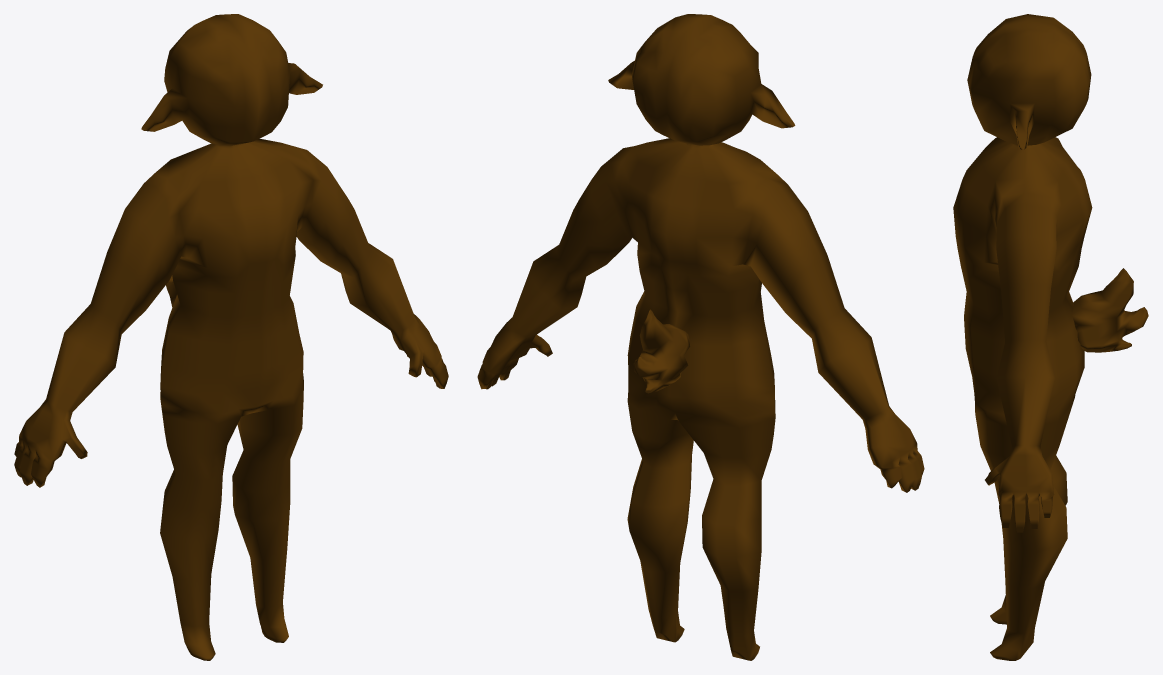
Rendered from CalmaajNPC.fbx.
3 views of the same model, side by side, from view 1: azimuth 30°, elevation 25°; view 2: azimuth 150°, elevation 25°; view 3: azimuth 270°, elevation 25° (orthographic). The views are drawn at different scales.
Parts seen in each view (by area): view 1: calmaaj_model; view 2: calmaaj_model; view 3: calmaaj_model.
Boxes of the visible parts, bbox=[...] form: calmaaj_model: bbox=[14, 14, 448, 660]; calmaaj_model: bbox=[477, 14, 924, 660]; calmaaj_model: bbox=[953, 14, 1148, 660].
Bounding box in the file's own units: 33.01 × 46.05 × 13.2.
